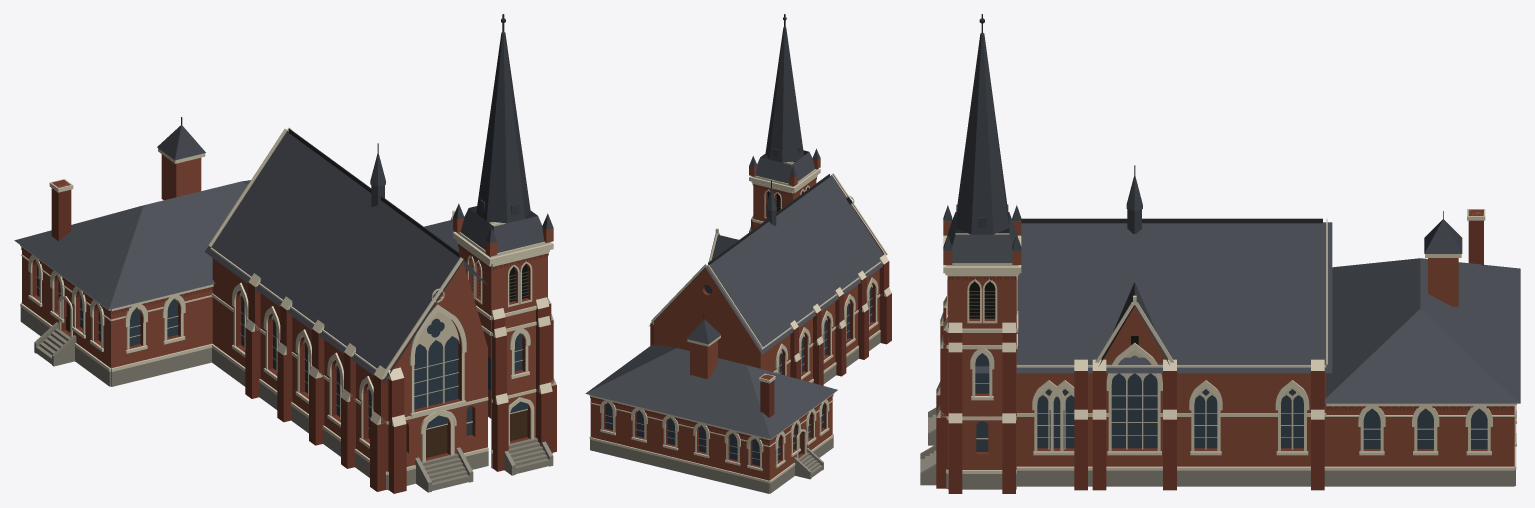
Rendered from ch-winfield-1913.glb.
3 renders of one model, left to right at view 1: azimuth 30°, elevation 25°; view 2: azimuth 150°, elevation 25°; view 3: azimuth 270°, elevation 25°, orthographic. The views are drawn at different scales.
Visible parts, largest first — view 1: ch_slate, ch_brick, ch_brick2, ch_trim, ch_base, ch_slate2, ch_stain, ch_trc, ch_door, ch_iron; view 2: ch_slate, ch_brick, ch_trim, ch_brick2, ch_slate2, ch_base, ch_stain, ch_iron, ch_trc; view 3: ch_slate, ch_brick, ch_trim, ch_brick2, ch_stain, ch_base, ch_slate2, ch_trc, ch_iron, ch_shadow.
Part boxes in pixels (x1,y1,x2,y2): ch_slate: [14, 131, 544, 382]; ch_brick: [22, 154, 553, 471]; ch_brick2: [21, 179, 556, 493]; ch_trim: [20, 127, 556, 475]; ch_base: [20, 307, 553, 492]; ch_slate2: [157, 32, 553, 252]; ch_stain: [37, 264, 528, 438]; ch_trc: [35, 261, 523, 428]; ch_door: [66, 301, 527, 457]; ch_iron: [181, 14, 505, 257]; ch_slate: [585, 150, 884, 438]; ch_brick: [590, 158, 884, 480]; ch_trim: [589, 161, 891, 483]; ch_brick2: [590, 177, 891, 467]; ch_slate2: [687, 27, 820, 344]; ch_base: [590, 332, 880, 493]; ch_stain: [605, 197, 871, 465]; ch_iron: [703, 14, 829, 318]; ch_trc: [605, 195, 872, 459]; ch_slate: [948, 212, 1520, 403]; ch_brick: [943, 221, 1514, 469]; ch_trim: [936, 209, 1516, 473]; ch_brick2: [936, 209, 1513, 493]; ch_stain: [975, 353, 1487, 451]; ch_base: [920, 407, 1515, 489]; ch_slate2: [943, 33, 1462, 365]; ch_trc: [975, 349, 1487, 449]; ch_iron: [979, 14, 1443, 223]; ch_shadow: [969, 281, 1138, 345].
Bounding box in the file's own units: 23.15 × 33.16 × 39.2.
